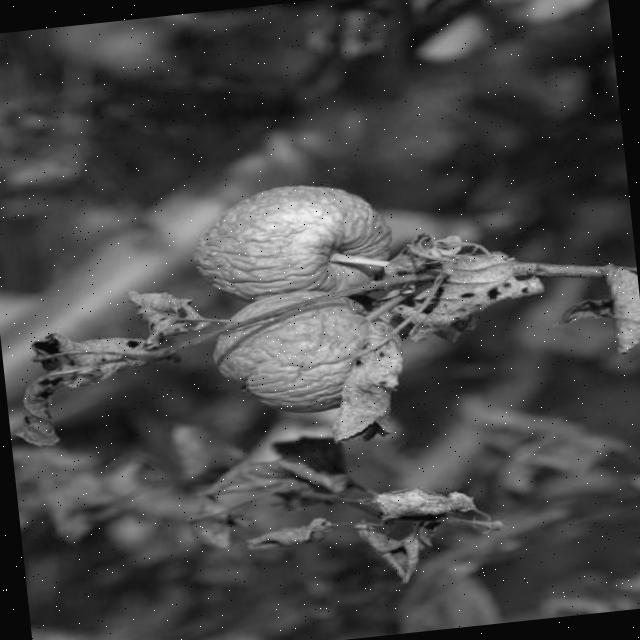overripe: (200, 280, 414, 426), (185, 172, 400, 309)
